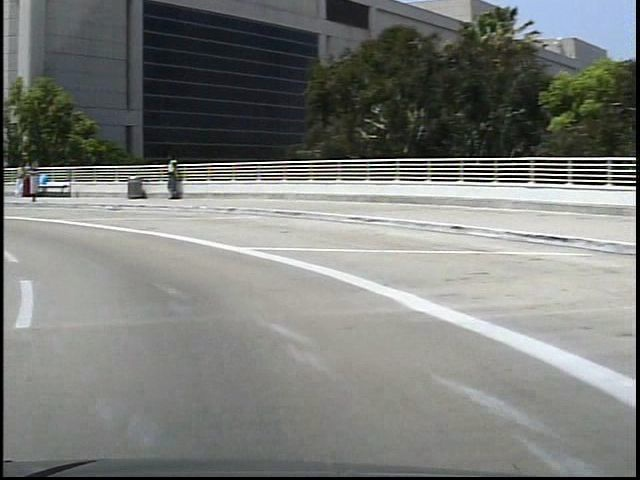person: (158, 152, 178, 204)
